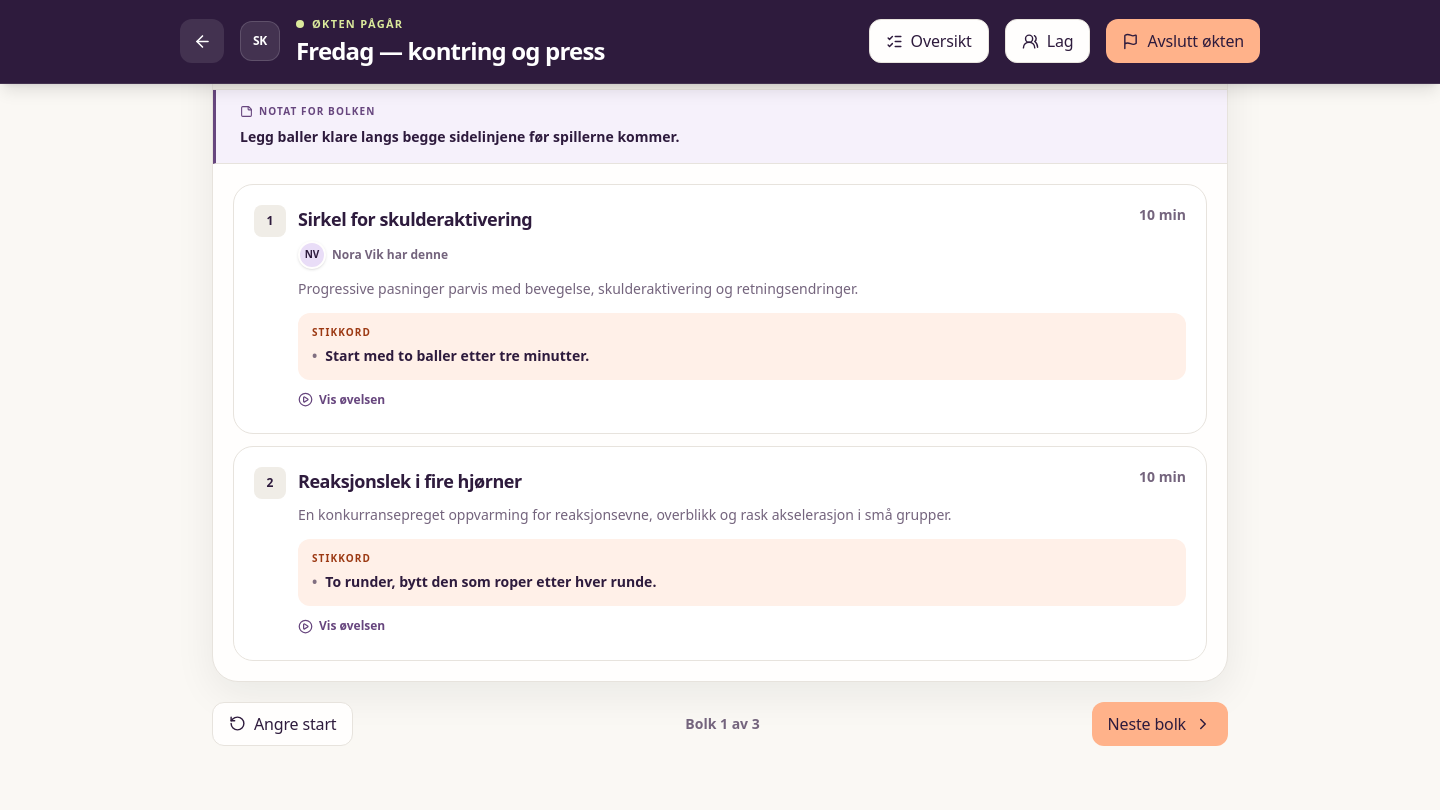
Test: live session runner › offers to undo the workout start instead of going back from the first block
(page scrolled)
Click the button "Angre start" at (283, 724), box [212, 702, 354, 746]
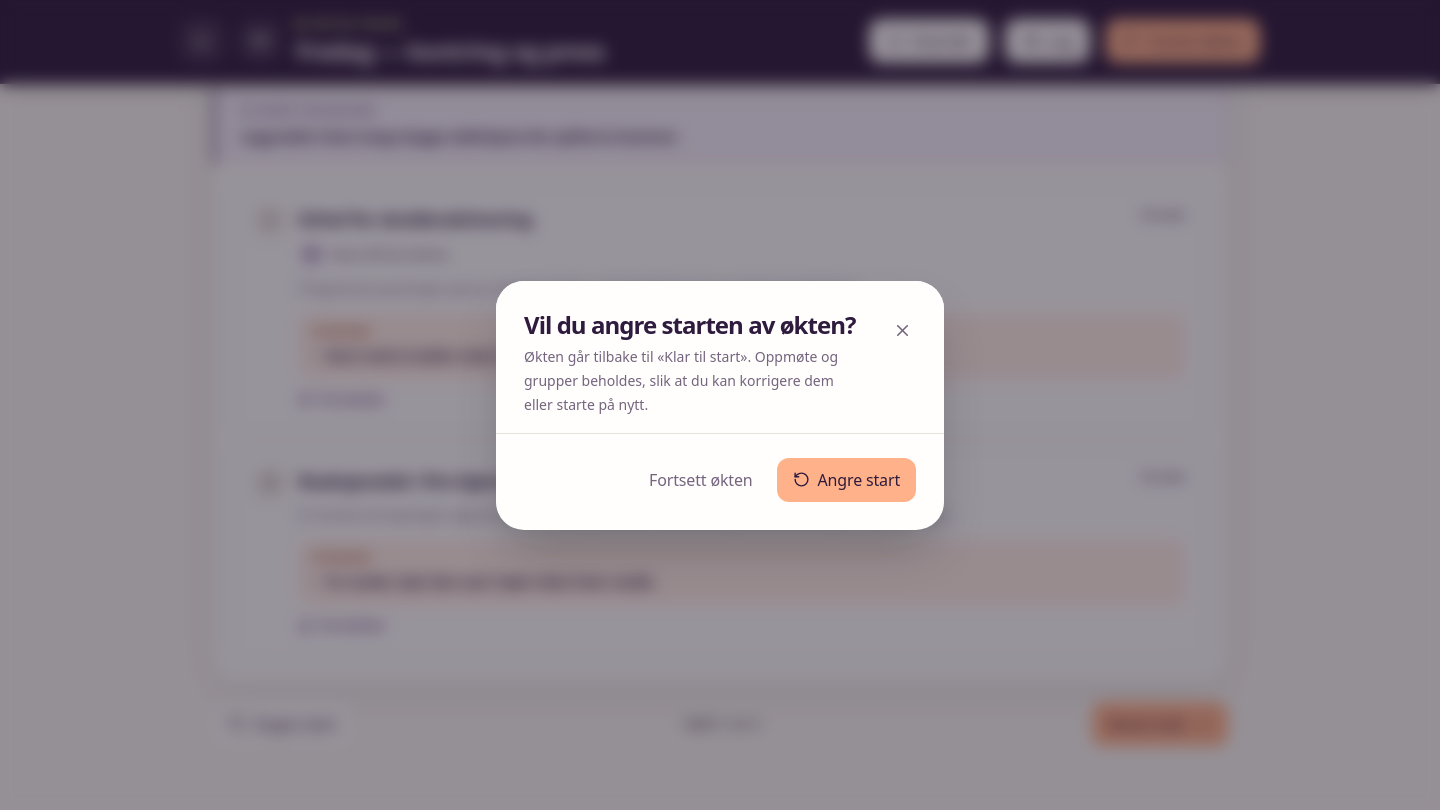
expect the text "Oppmøte og grupper beholdes" is shown: met, box [524, 346, 838, 414]
Click the button "Angre start" at (846, 480), box [776, 458, 916, 502]
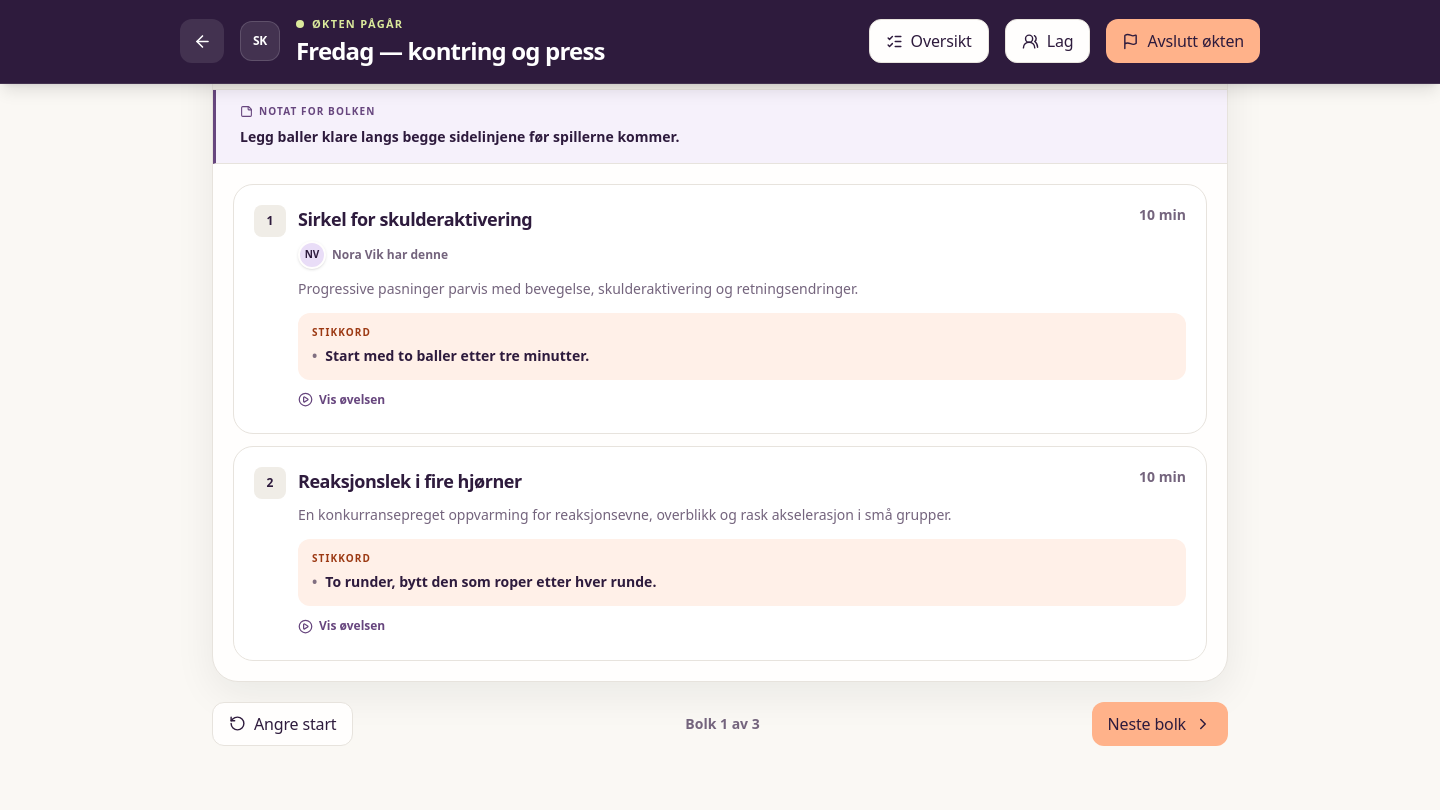
expect the heading "Vil du angre starten av økten?" is gone: met
